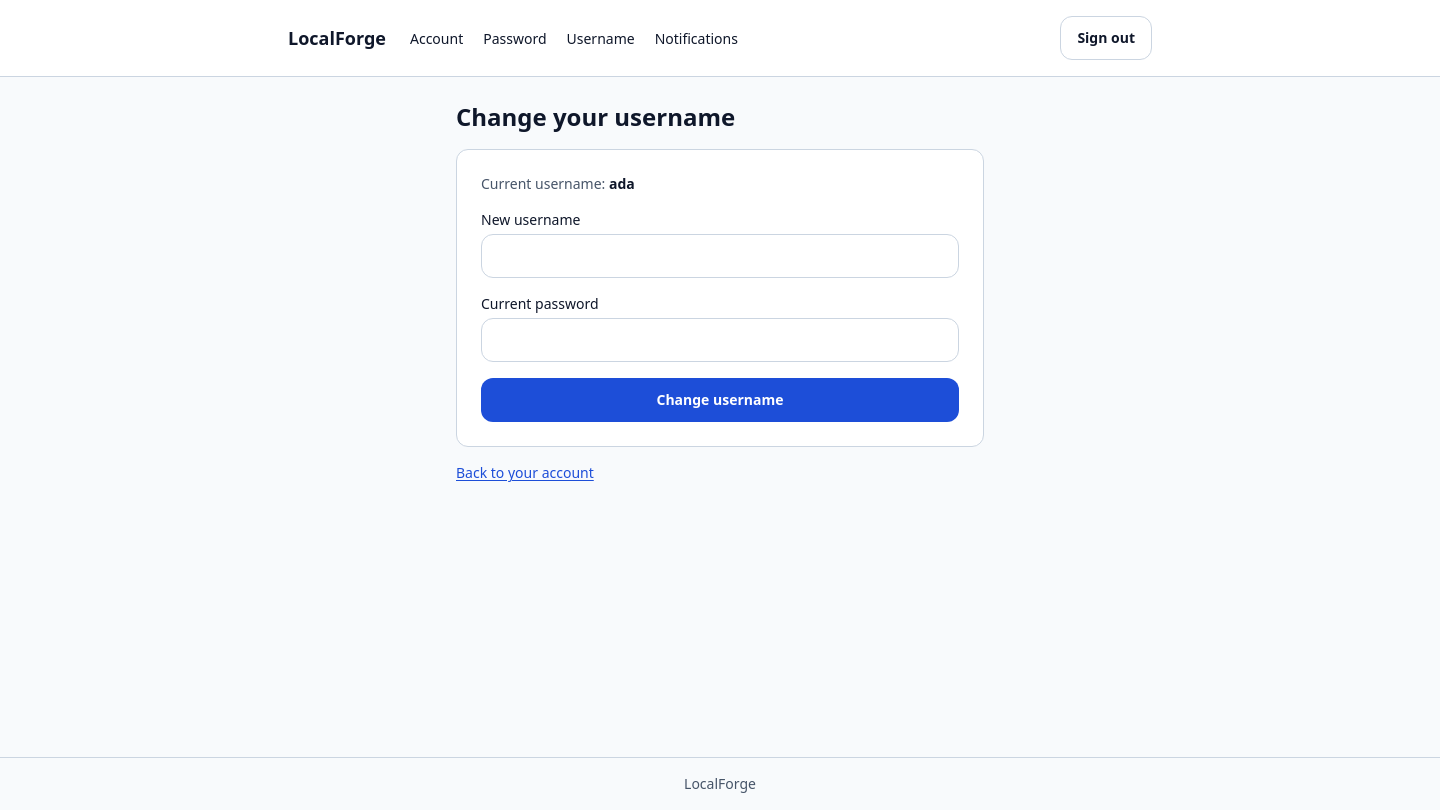
Test case: ChangeUsernamePage › keeps what was typed and says so when offline
The image size is (1440, 810).
Type "grace" into the field labelled "New username".
click(720, 256); type("grace")  # box [481,234,959,278]
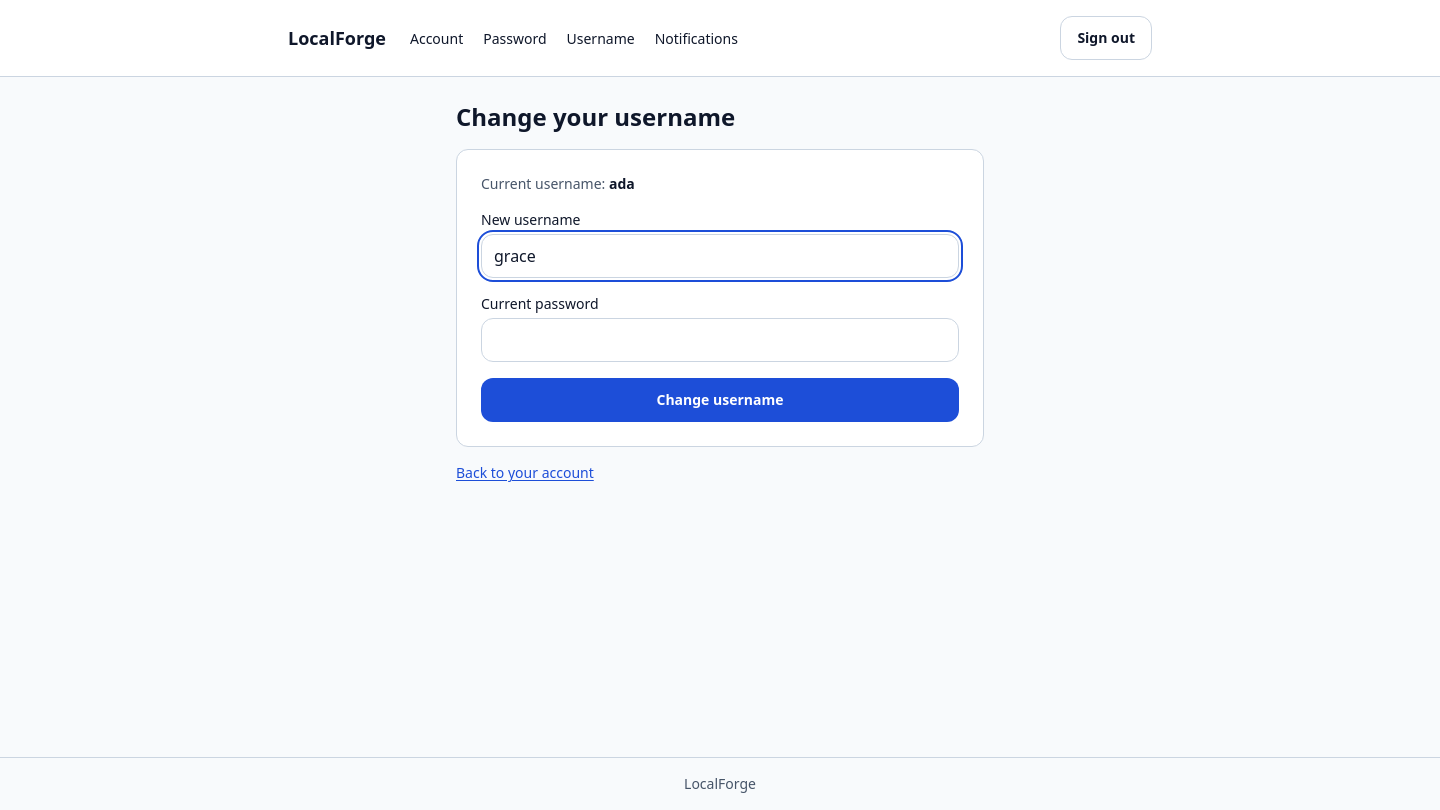
Type "correct horse" into the password field labelled "Current password".
click(720, 340); type("correct horse")  # box [481,318,959,362]
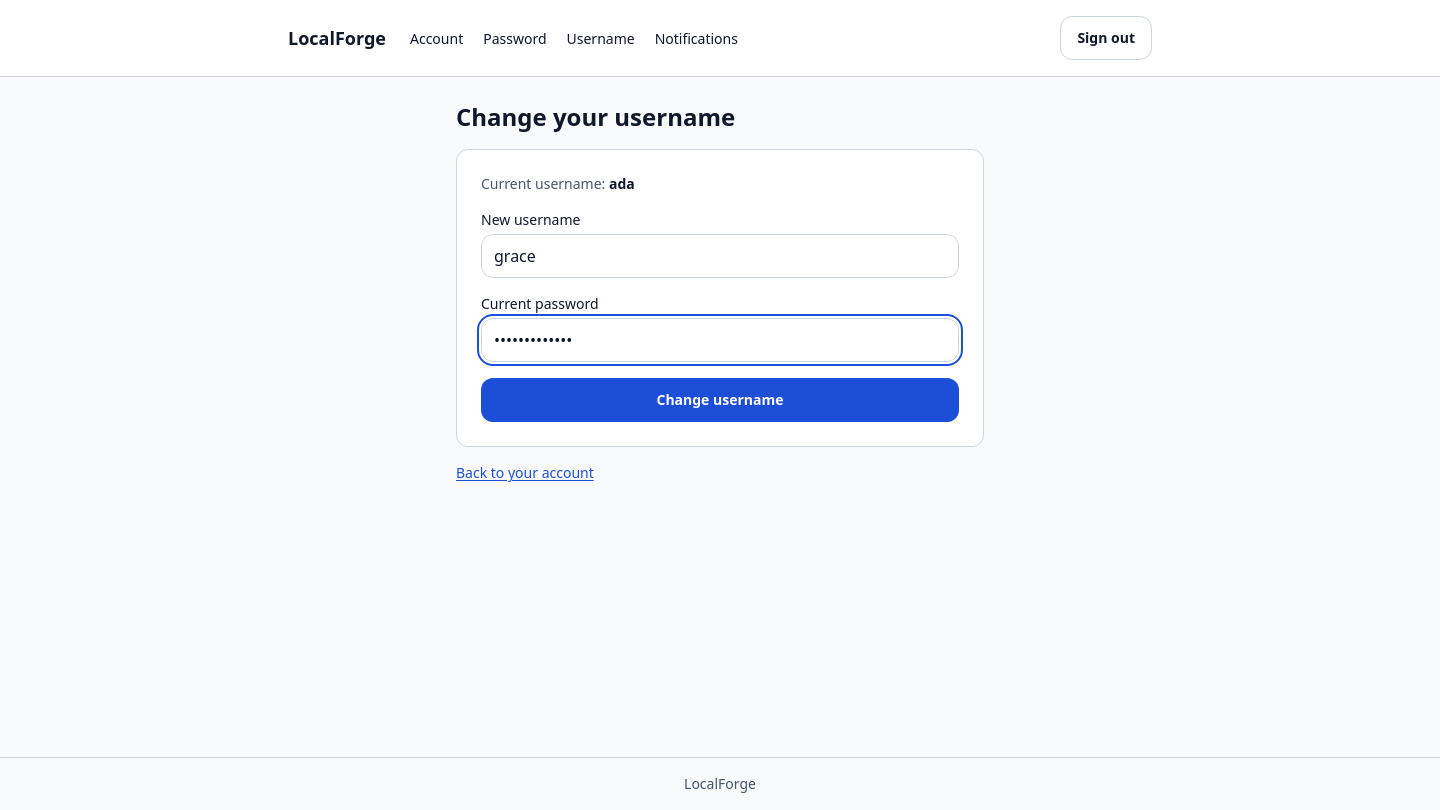
Click the button "Change username".
click(720, 400)  # box [481,378,959,422]
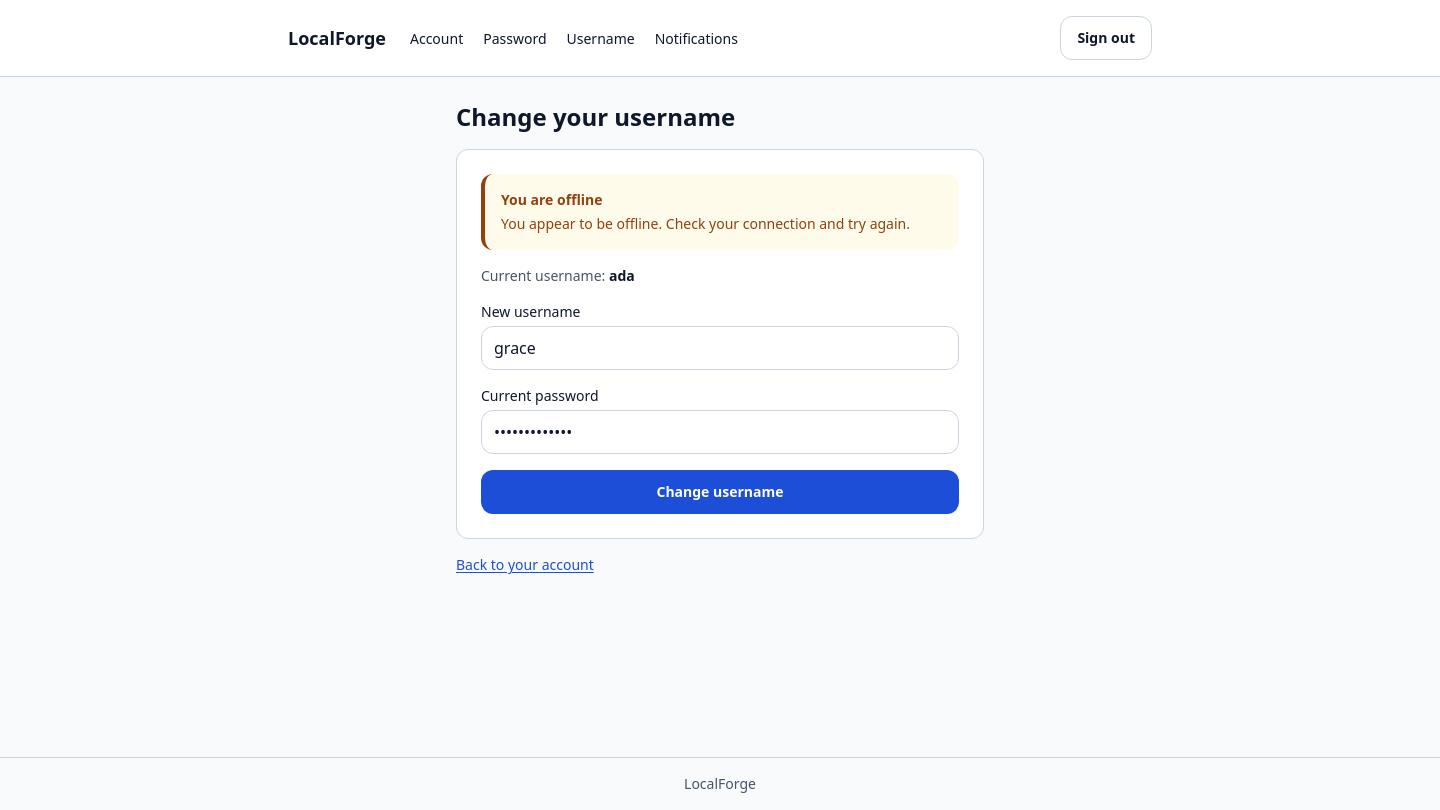
Result: the text "You are offline" is shown at [501,190,602,209]
